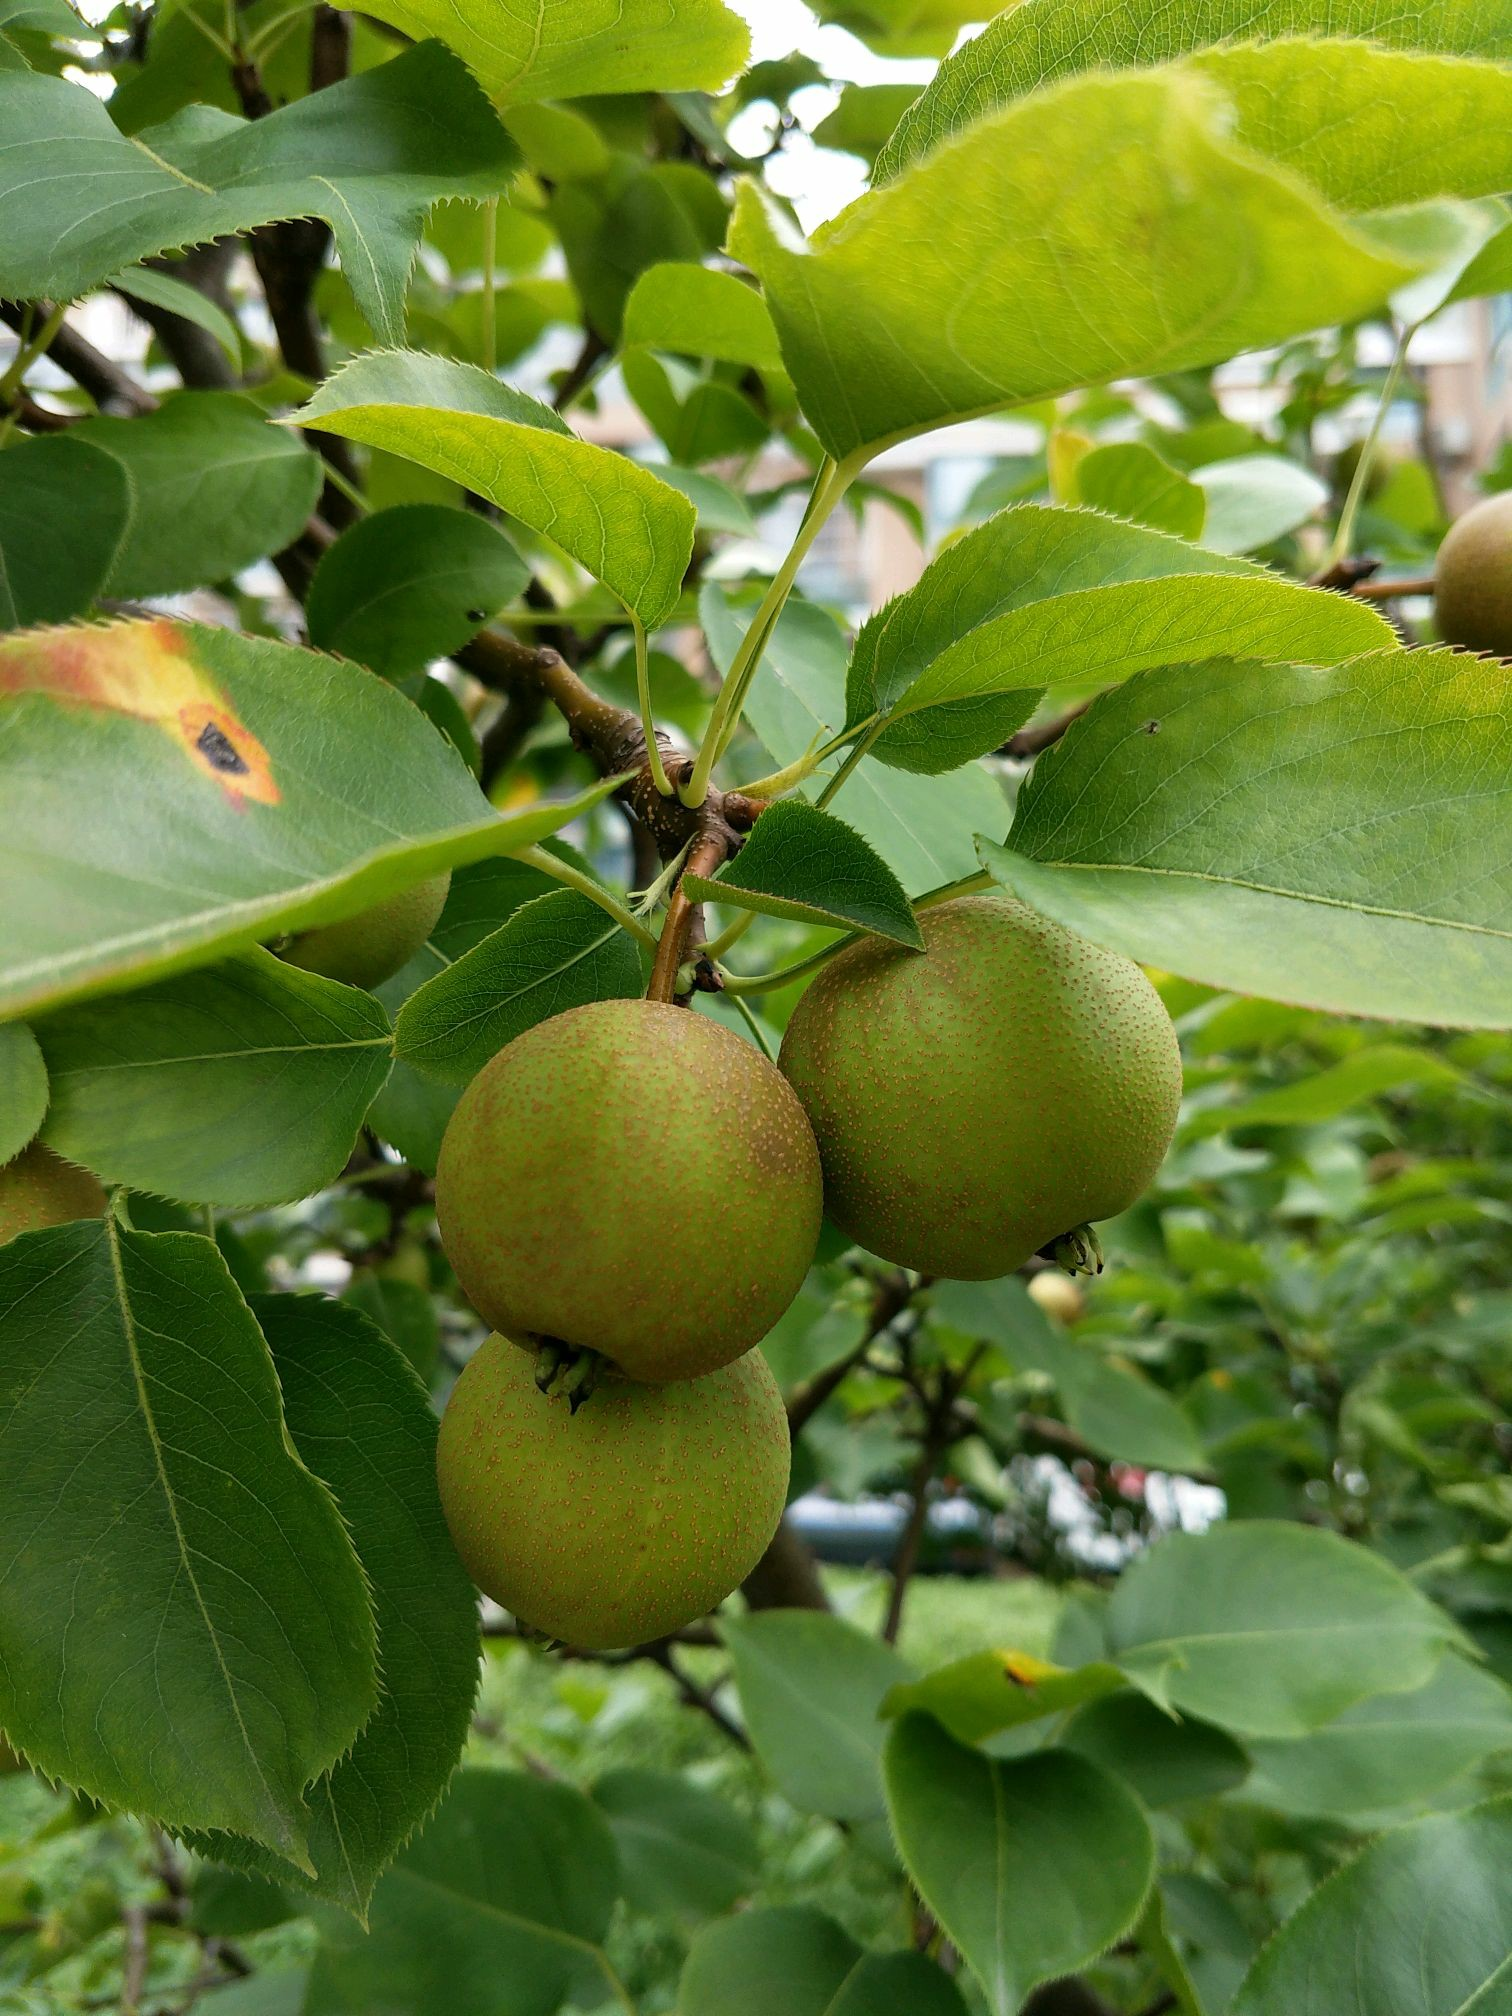pear: (778, 897, 1186, 1272), (442, 1002, 821, 1376), (435, 1319, 791, 1652), (1429, 495, 1512, 686)
